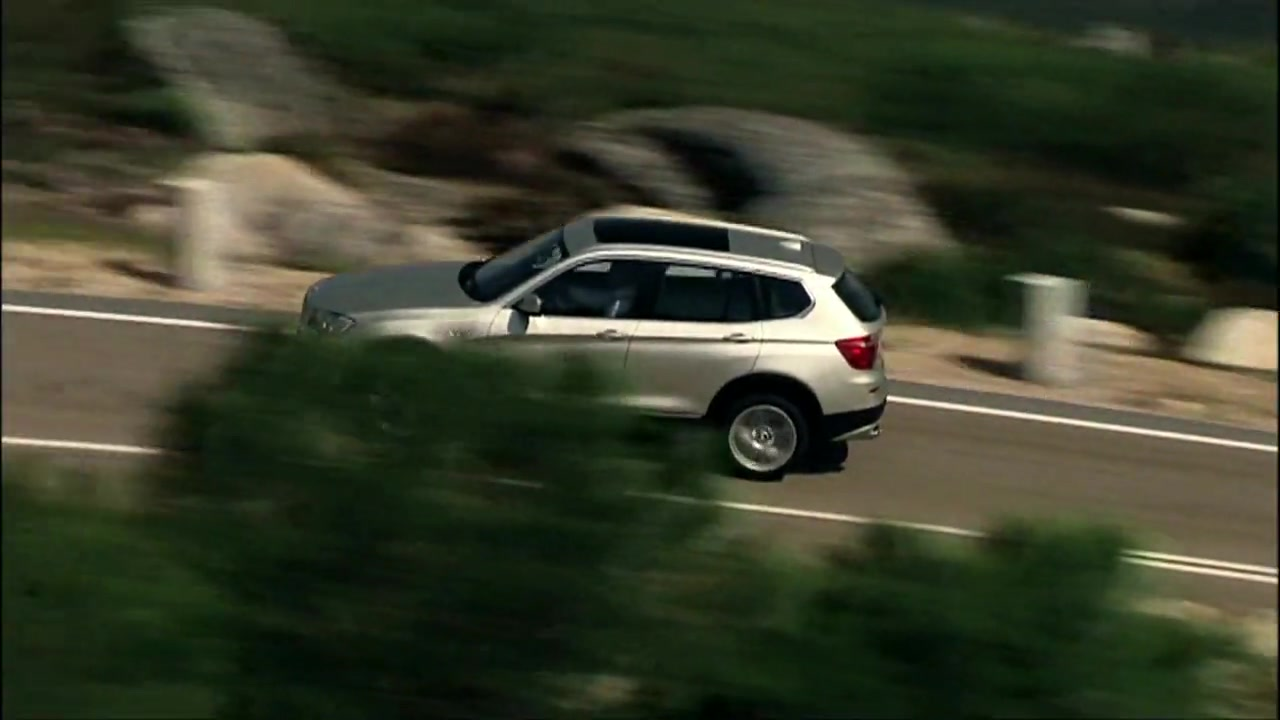car: (294, 201, 897, 488)
